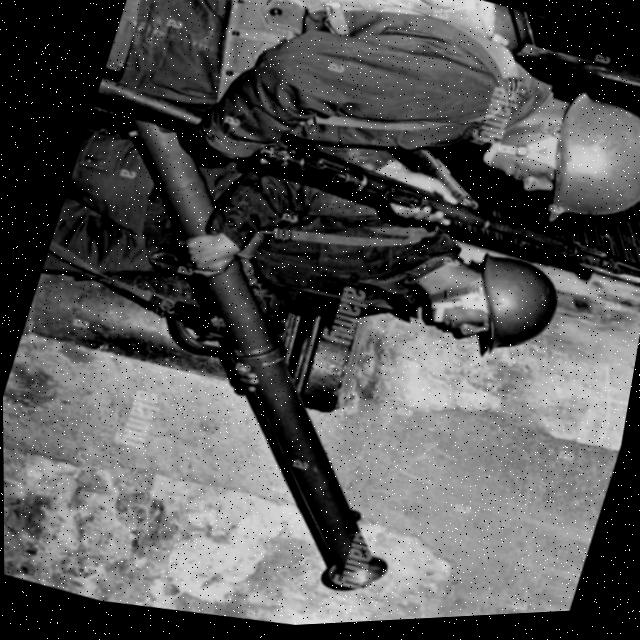rocket: (1, 96, 514, 624)
